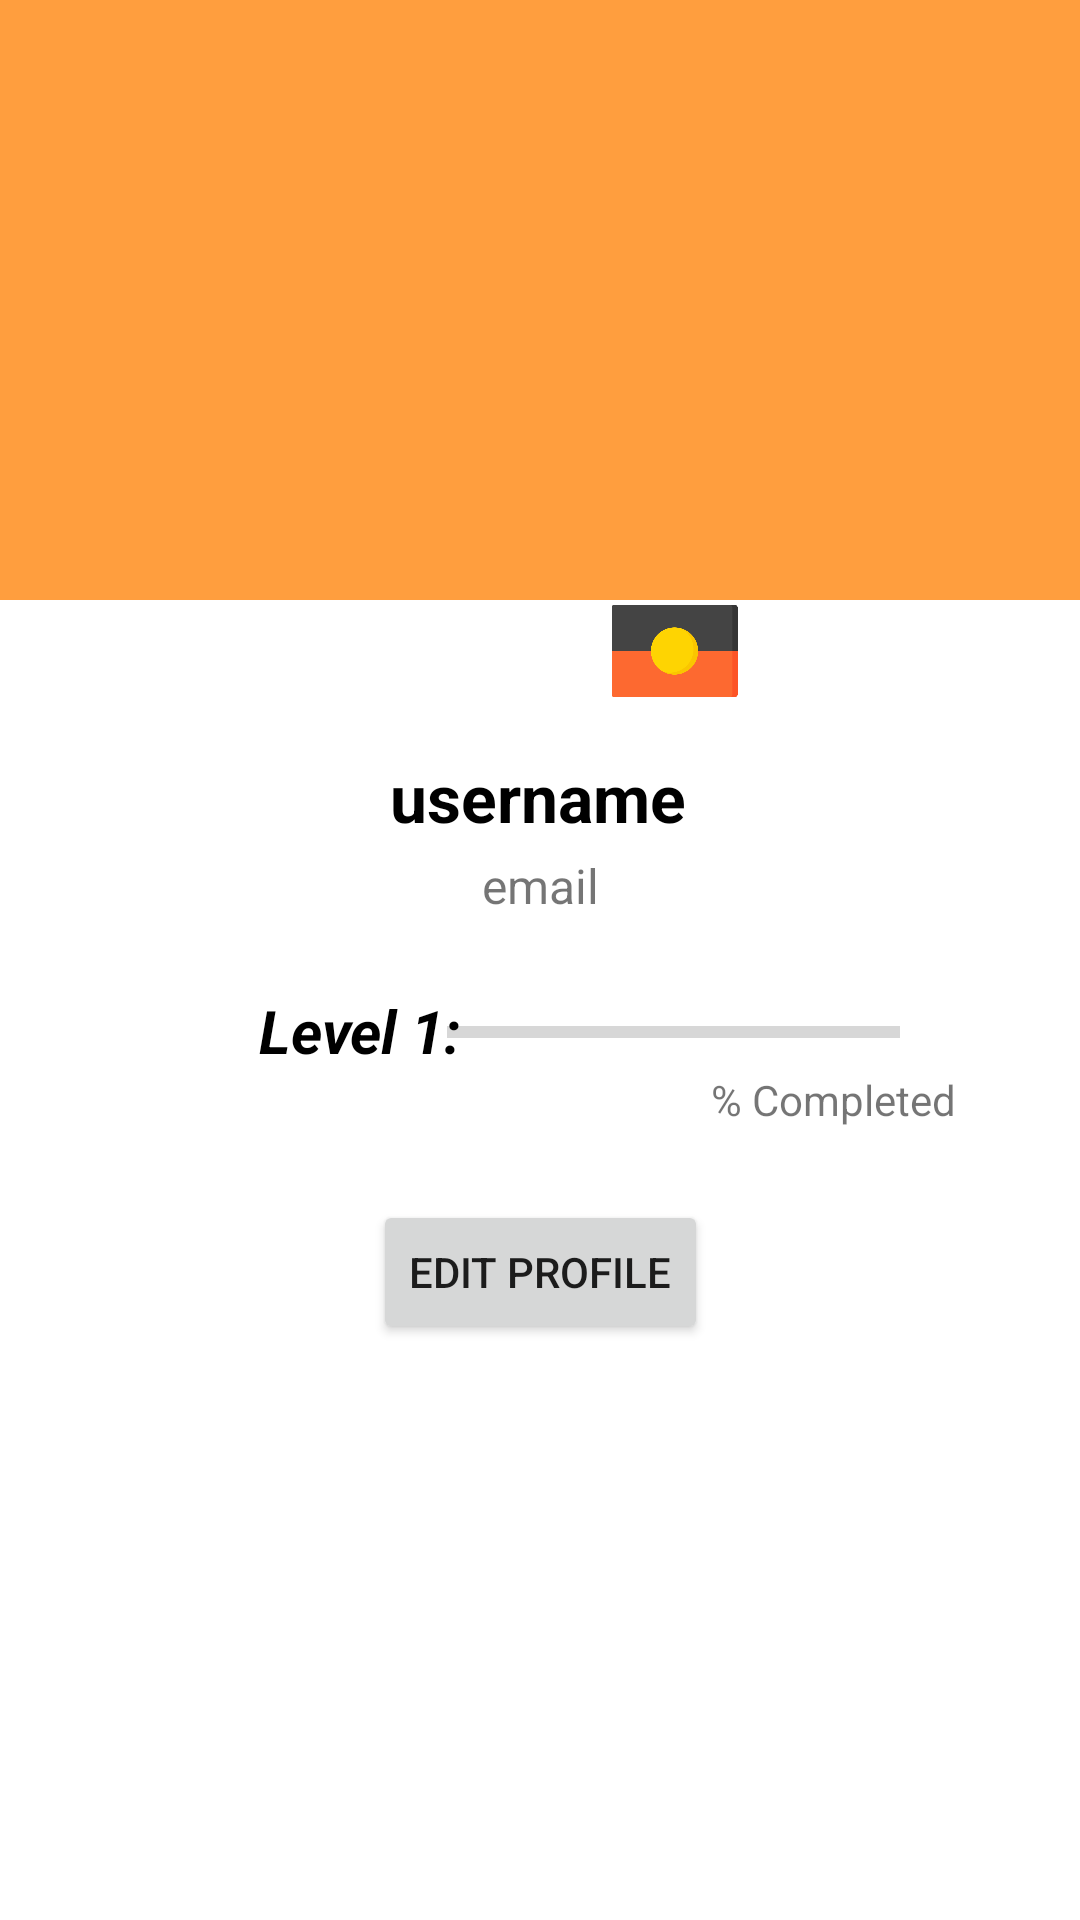

Where to tap for icons on this 1080*1920 app screen, as [x,y]:
aborigin: [675,651]
